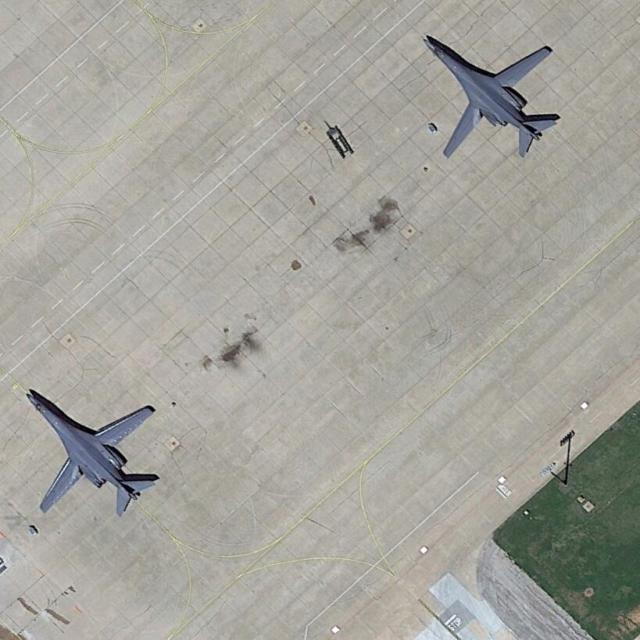fighter jet: (407, 36, 562, 158), (17, 388, 160, 516)
